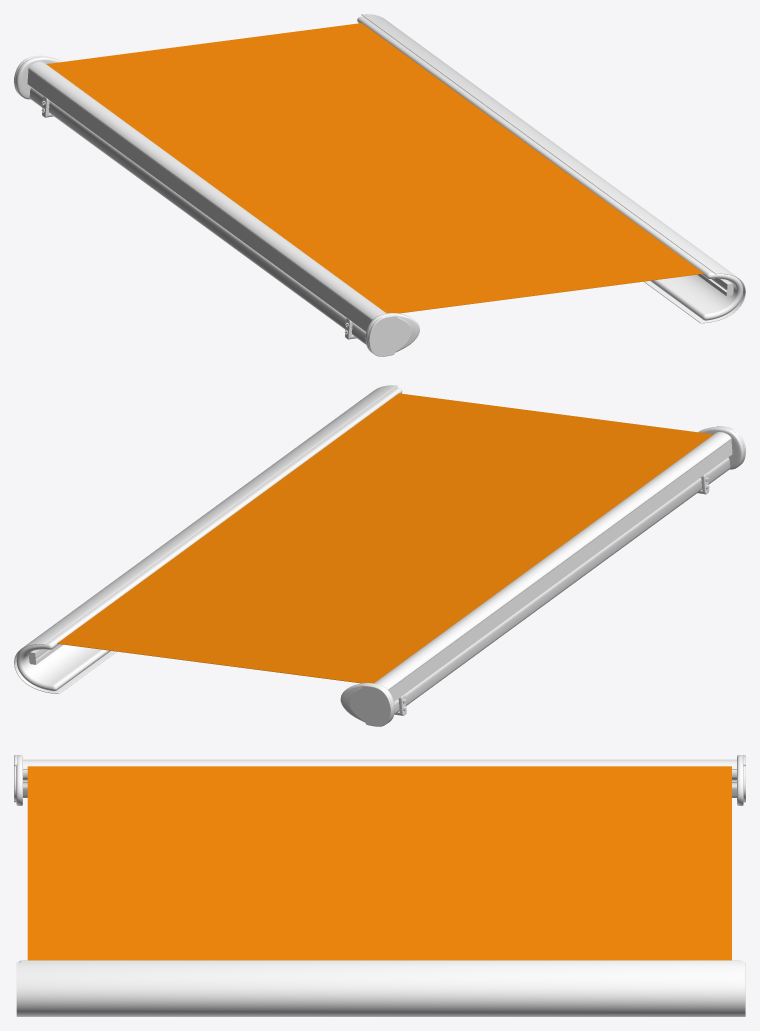
File: Gold XXL.glb
The picture shows the model from 3 angles, top to bottom: view 1: azimuth 30°, elevation 25°; view 2: azimuth 150°, elevation 25°; view 3: azimuth 270°, elevation 25°; orthographic projection. The views are drawn at different scales.
Parts seen in each view (by area): view 1: Plane, Circle.009, BezierCurve, BezierCurve.001, Stem, Circle.001, Circle.004; view 2: Plane, Circle.009, BezierCurve.001, BezierCurve, Stem, Circle.005, Circle; view 3: Plane, BezierCurve, Circle.009, BezierCurve.001.
Boxes of the visible parts, bbox=[...] form: Plane: bbox=[46, 23, 703, 313]; Circle.009: bbox=[27, 61, 386, 331]; BezierCurve: bbox=[361, 14, 745, 323]; BezierCurve.001: bbox=[357, 16, 743, 320]; Stem: bbox=[29, 87, 366, 344]; Circle.001: bbox=[368, 314, 411, 356]; Circle.004: bbox=[15, 56, 61, 99]; Plane: bbox=[57, 393, 713, 683]; Circle.009: bbox=[374, 432, 732, 701]; BezierCurve.001: bbox=[16, 387, 402, 691]; BezierCurve: bbox=[14, 385, 397, 693]; Stem: bbox=[394, 457, 730, 714]; Circle.005: bbox=[349, 684, 392, 726]; Circle: bbox=[698, 427, 744, 469]; Plane: bbox=[27, 766, 731, 960]; BezierCurve: bbox=[16, 962, 745, 1016]; Circle.009: bbox=[23, 759, 736, 782]; BezierCurve.001: bbox=[19, 960, 742, 962].
Bounding box in the file's own units: 2.45 × 0.5351 × 4.
3 materials, 1 textured.
